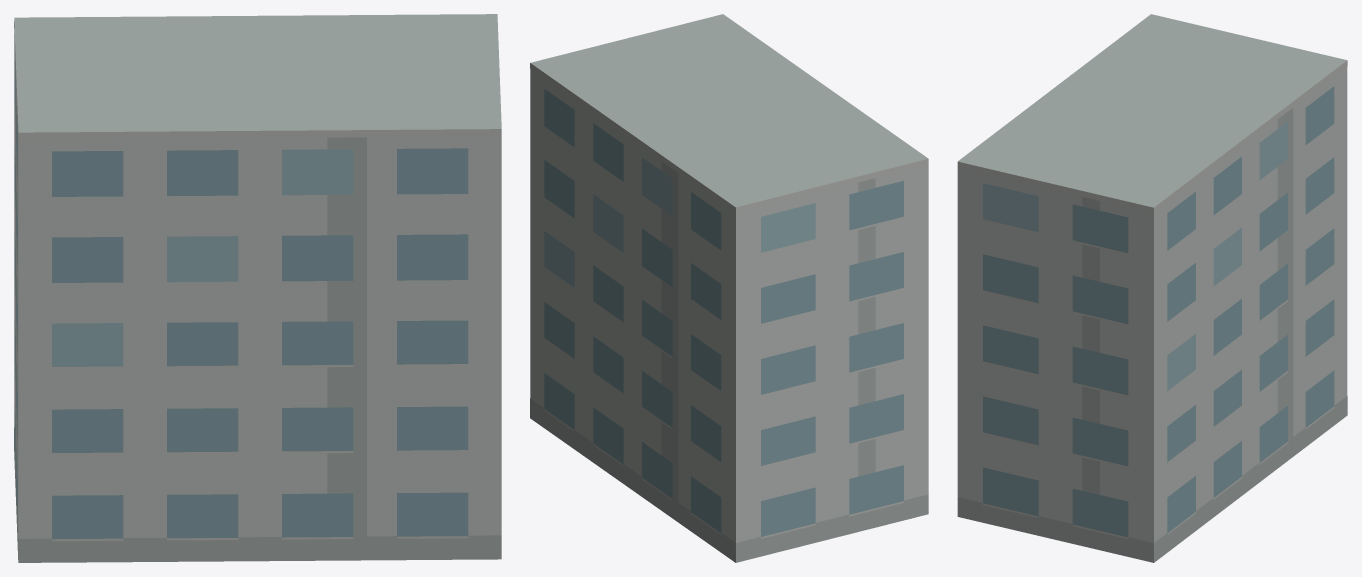
The model's file is survey-upis-32851979.glb.
3 views of the same model, side by side, from view 1: azimuth 30°, elevation 25°; view 2: azimuth 150°, elevation 25°; view 3: azimuth 270°, elevation 25° (orthographic). The views are drawn at different scales.
Visible parts, largest first — view 1: survey-upis-32851979.tmp; view 2: survey-upis-32851979.tmp; view 3: survey-upis-32851979.tmp.
Part boxes in pixels (<box>): survey-upis-32851979.tmp: <box>14,14,501,562</box>; survey-upis-32851979.tmp: <box>530,14,928,562</box>; survey-upis-32851979.tmp: <box>957,14,1347,562</box>.
Size of the model in its own units: 16.85 by 14.4 by 14.33.
